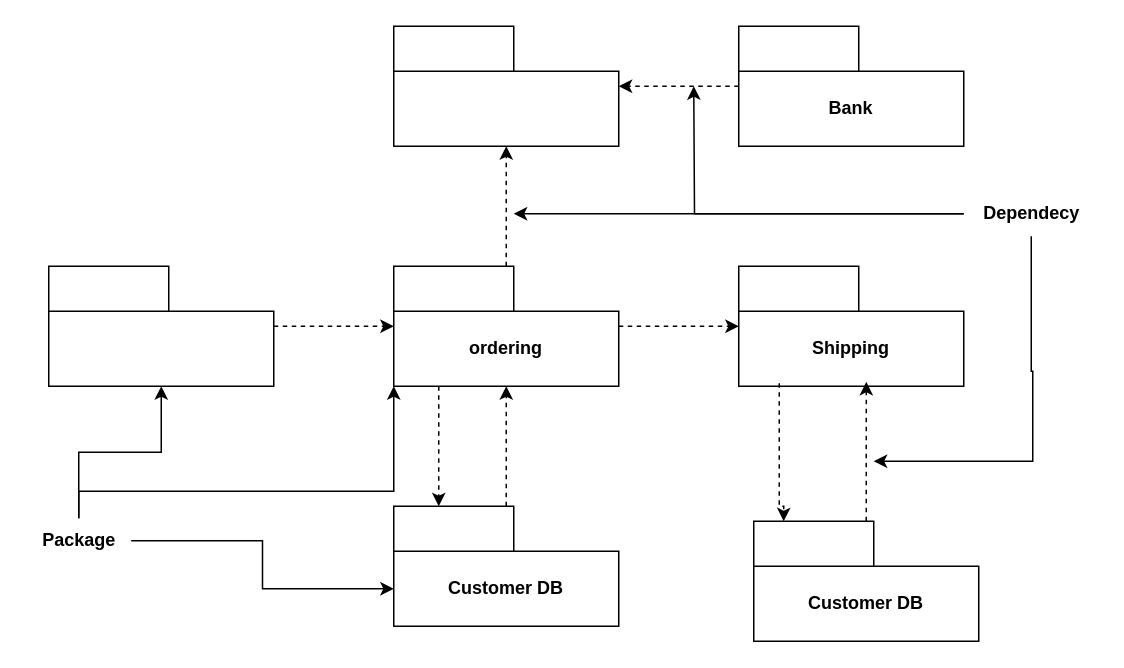
Some shapes in this 1124 by 668 pixel diagram are drawn without their labels. Here are the shapes that lost their labels. From the top down, the box of each, then its label:
(392, 25, 619, 146): Payment
(47, 265, 274, 386): UI
